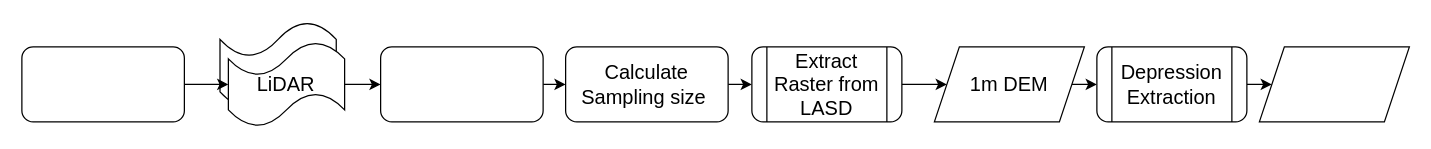
Some shapes in this 1431 by 149 pixel diagram are drawn without their labels. Each missing label, with the box of its shape:
Download from BC LiDAR: (21, 46, 184, 122)
Filter Ground points: (379, 46, 543, 122)
Terrain Depression Polygon: (1258, 46, 1409, 122)
